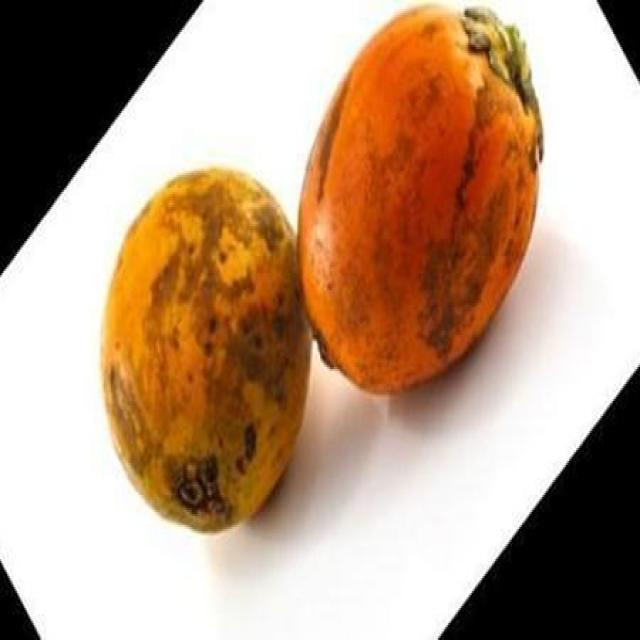good: (299, 9, 543, 397), (100, 169, 314, 538)
